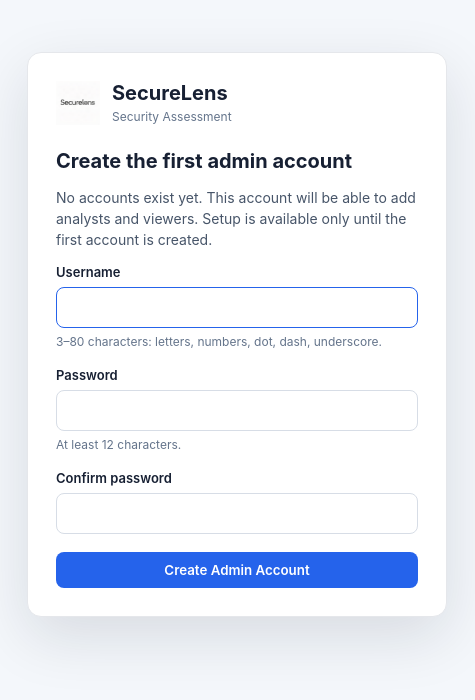
Test: Login › checks that setup passwords match before creating the admin
Type "admin" into the field labelled "Username".
click(237, 307); type("admin")  # box [56,286,418,328]
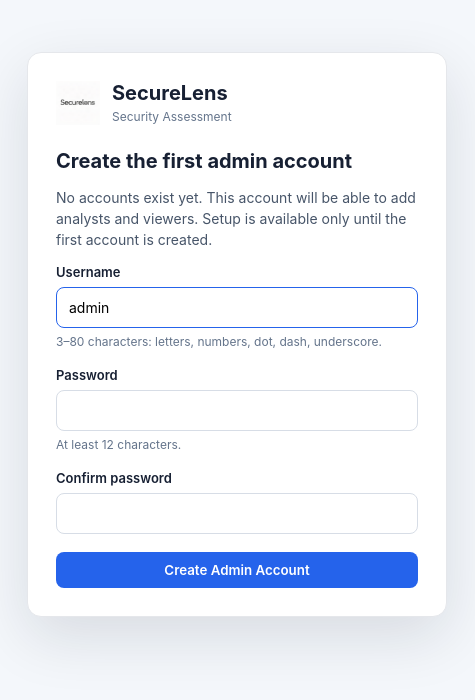
Type "first-password-123" into the password field labelled "Password".
click(237, 410); type("first-password-123")  # box [56,390,418,430]
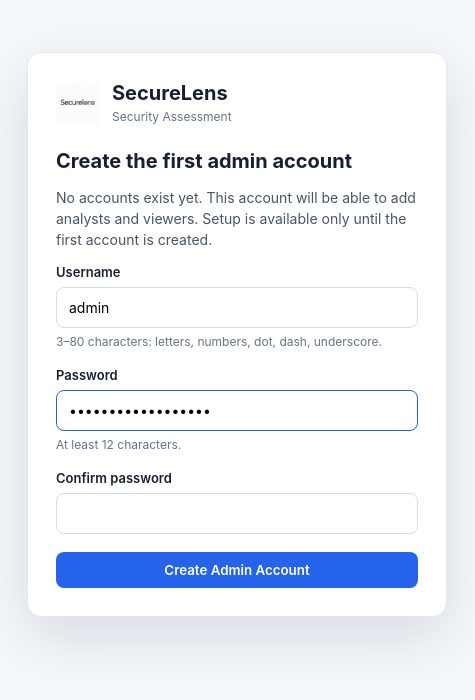
Type "other-password-123" into the password field labelled "Confirm password".
click(237, 513); type("other-password-123")  # box [56,492,418,534]
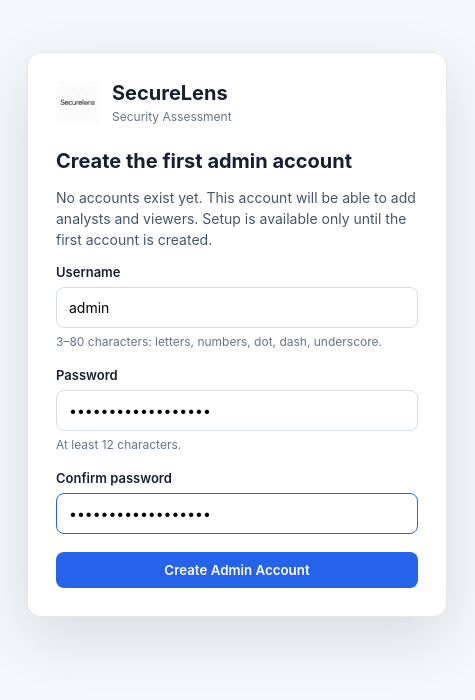
Click the button "Create Admin Account".
click(237, 570)  # box [56,552,418,588]
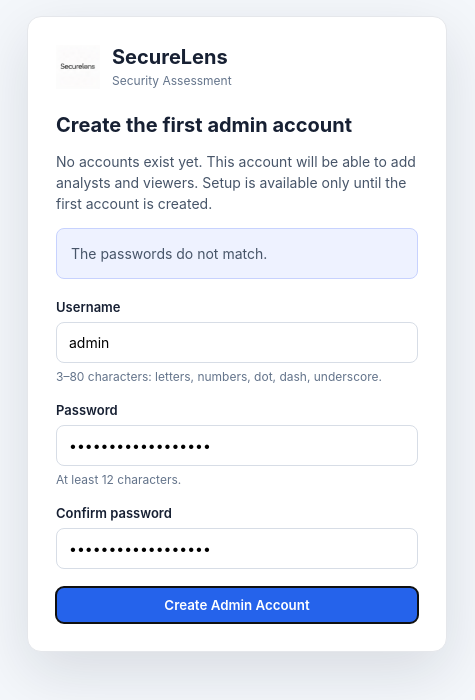
Result: the message shows "do not match" at [71,245,267,262]
